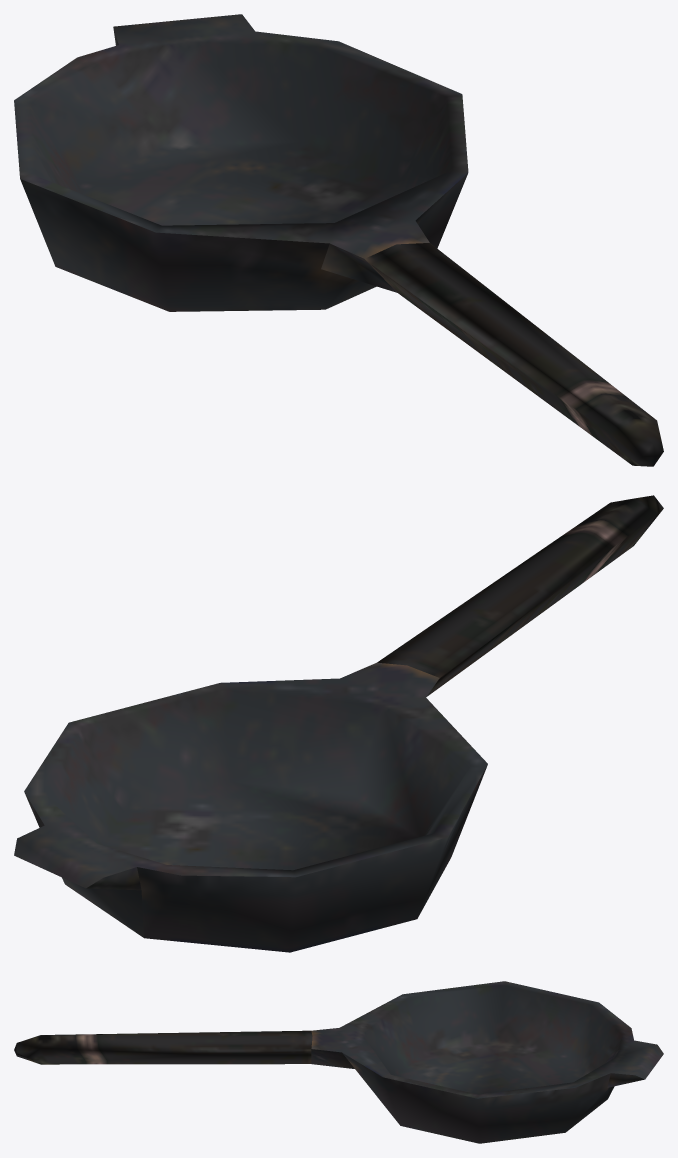
File: Pickup_Pdg01.glb
The picture shows the model from 3 angles, top to bottom: view 1: azimuth 30°, elevation 25°; view 2: azimuth 150°, elevation 25°; view 3: azimuth 270°, elevation 25°; orthographic projection. The views are drawn at different scales.
Visible parts, largest first — view 1: pk_pdg_01; view 2: pk_pdg_01; view 3: pk_pdg_01.
Part boxes in pixels (left/top/right/bottom): pk_pdg_01: left=14, top=14, right=663, bottom=466; pk_pdg_01: left=14, top=495, right=663, bottom=952; pk_pdg_01: left=14, top=981, right=663, bottom=1143.
Size of the model in its own units: 0.3383 by 0.0784 by 0.791.
Materials: 1 (1 with a texture image).
